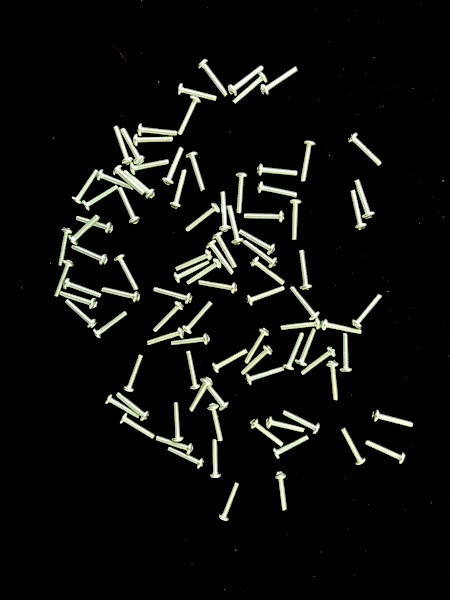longscrew: (197, 58, 230, 100), (260, 66, 300, 100), (231, 71, 269, 106), (347, 132, 384, 167), (364, 438, 407, 467), (351, 293, 384, 330), (227, 65, 265, 97), (184, 202, 221, 234), (249, 256, 287, 287), (289, 284, 320, 322), (238, 227, 278, 256), (111, 164, 146, 197), (181, 301, 214, 336), (281, 408, 322, 436), (300, 346, 337, 377), (241, 239, 279, 269), (339, 427, 367, 467), (199, 377, 231, 412), (176, 95, 202, 138), (205, 240, 236, 276), (249, 418, 285, 449), (92, 311, 129, 341), (69, 213, 101, 247), (63, 298, 97, 330), (115, 392, 151, 422), (185, 258, 222, 287), (112, 253, 140, 291), (173, 259, 211, 287), (211, 347, 249, 375), (152, 301, 184, 334), (240, 345, 273, 377), (122, 169, 156, 200), (116, 185, 141, 227), (71, 169, 99, 206), (82, 184, 119, 212), (118, 413, 156, 440), (273, 434, 311, 461), (212, 231, 238, 270), (104, 393, 141, 420), (162, 145, 185, 188), (353, 178, 376, 221), (244, 327, 270, 365), (70, 243, 109, 268), (184, 151, 207, 193), (218, 481, 241, 523), (188, 376, 214, 413), (63, 277, 103, 301), (166, 447, 206, 471), (120, 127, 145, 165), (112, 124, 134, 167), (173, 249, 214, 272), (245, 286, 286, 309), (283, 331, 306, 372), (154, 434, 195, 457), (96, 169, 135, 193), (295, 327, 317, 369), (371, 409, 415, 430), (145, 326, 186, 348), (245, 365, 286, 387), (176, 82, 218, 103), (74, 214, 114, 236), (52, 259, 74, 299), (348, 189, 368, 232), (123, 353, 144, 393), (59, 289, 97, 311), (100, 285, 141, 305), (152, 286, 193, 306), (170, 169, 189, 212), (256, 181, 299, 200), (319, 319, 364, 337), (299, 140, 317, 184), (265, 416, 306, 435), (128, 158, 170, 176), (226, 204, 244, 246), (184, 350, 202, 391), (207, 402, 225, 443), (56, 226, 73, 269), (256, 162, 299, 179), (298, 249, 315, 292), (279, 316, 322, 333), (197, 279, 239, 295), (289, 199, 304, 242), (325, 360, 340, 403), (274, 470, 289, 512), (235, 171, 249, 215), (137, 123, 178, 138), (171, 401, 185, 444), (339, 333, 353, 375), (209, 438, 223, 480), (170, 333, 211, 347), (218, 190, 231, 234), (242, 211, 286, 224), (133, 134, 174, 147)
